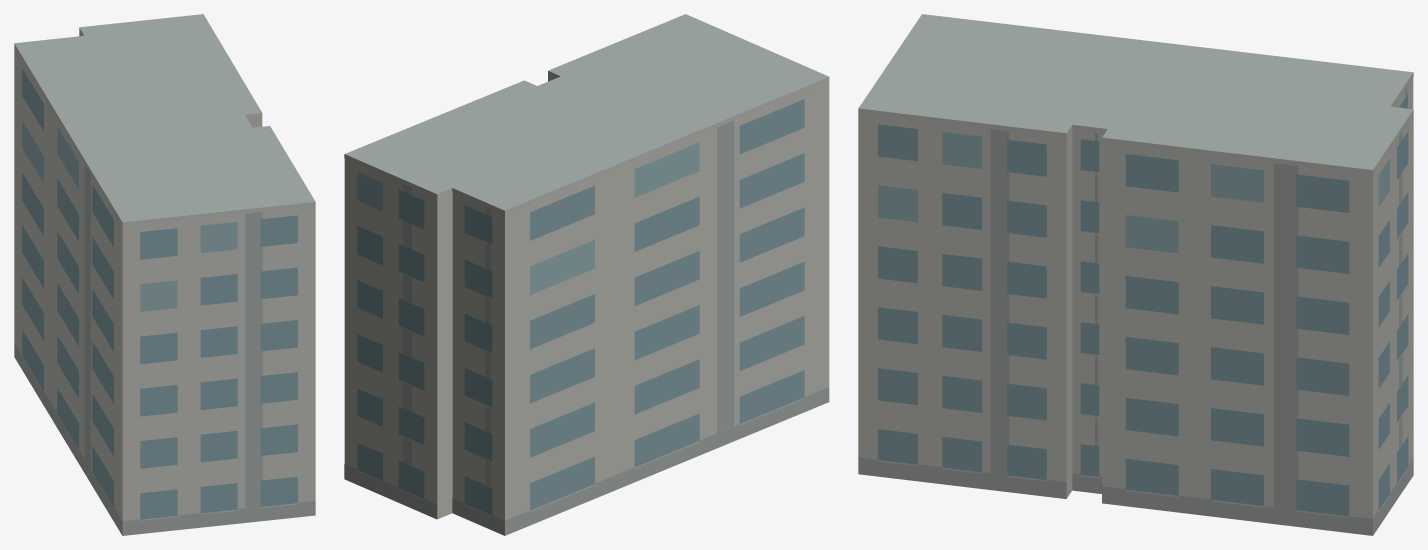
File: survey-upis-32624732.glb
3 renders of one model, left to right at view 1: azimuth 30°, elevation 25°; view 2: azimuth 150°, elevation 25°; view 3: azimuth 270°, elevation 25°, orthographic. The views are drawn at different scales.
Parts seen in each view (by area): view 1: survey-upis-32624732.tmp; view 2: survey-upis-32624732.tmp; view 3: survey-upis-32624732.tmp.
Part boxes in pixels (x1,y1,x2,y2): survey-upis-32624732.tmp: (14,14,315,535); survey-upis-32624732.tmp: (344,14,829,535); survey-upis-32624732.tmp: (858,14,1413,535).
Bounding box in the file's own units: 16.67 × 18.2 × 25.05.
